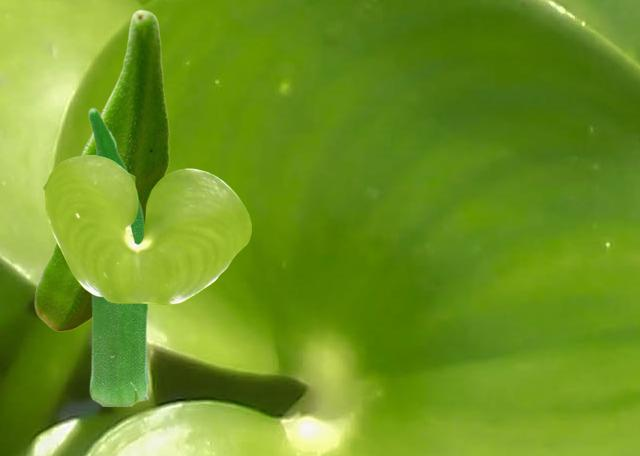okra: (34, 9, 168, 330), (88, 107, 147, 405)
